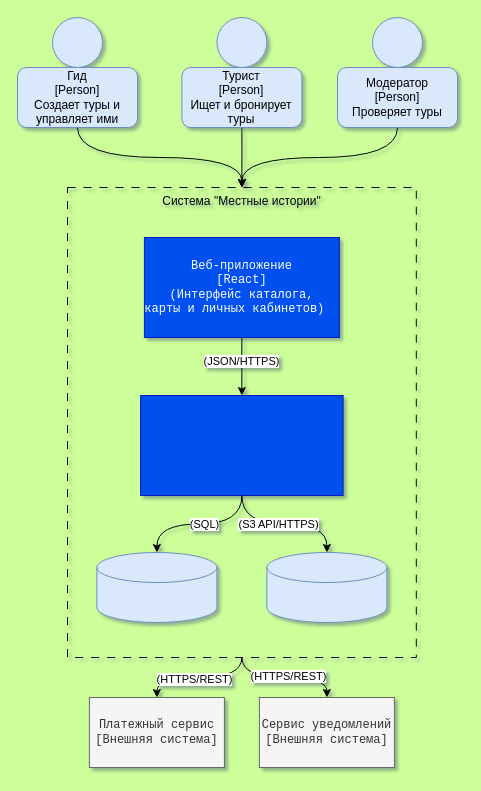
This 481x791 diagram has some shape labels left out. The shapes that lost their labels are listed below. From the top down, each one's centre as x and y in pixels, then its label:
(241,445): API Сервер [Node.js] (Бизнес-логика, бронирование, проверка прав)
(156,587): Центральная БД [PostgreSQL]
(326,587): Хранилище файлов [S3/MinIo]
